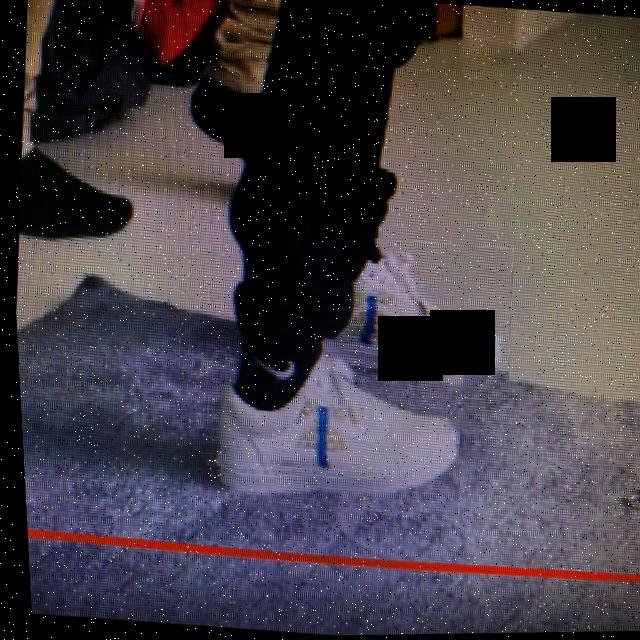shoe: (187, 314, 467, 519), (304, 233, 516, 396)
